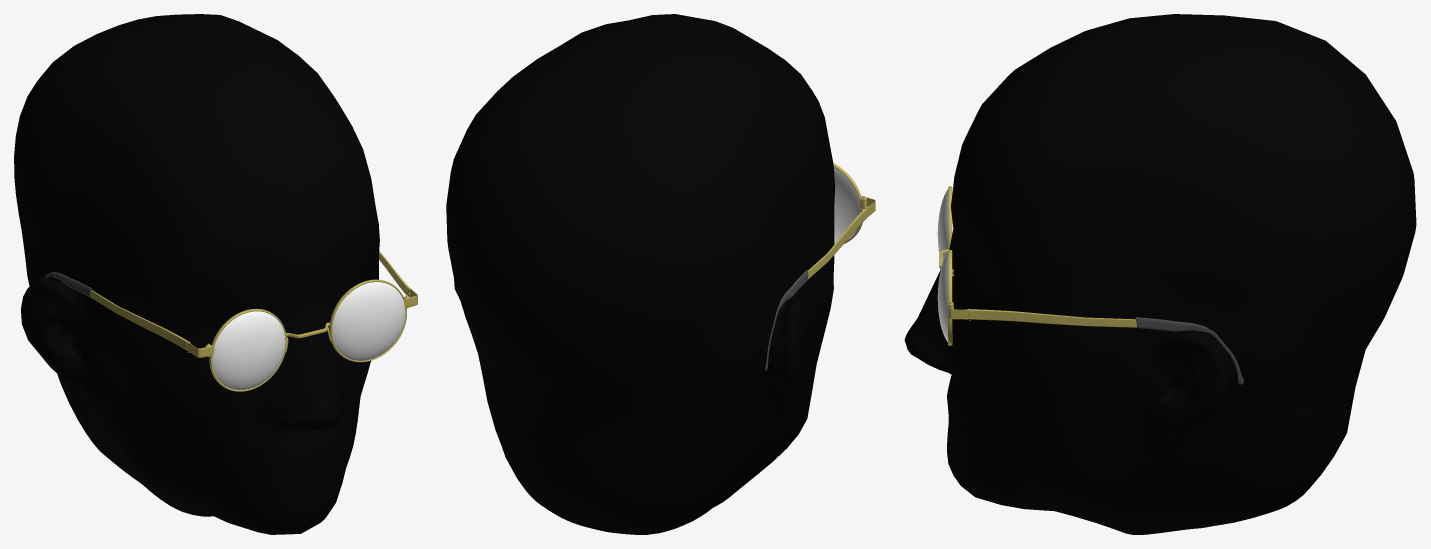
The model's file is HEAD (NO Shoulders).glb.
3 renders of one model, left to right at view 1: azimuth 30°, elevation 25°; view 2: azimuth 150°, elevation 25°; view 3: azimuth 270°, elevation 25°, orthographic. The views are drawn at different scales.
Parts seen in each view (by area): view 1: Head, Glasses; view 2: Head, Glasses; view 3: Head, Glasses.
Part boxes in pixels (x1,y1,x2,y2): Head: (14,14,379,534); Glasses: (44,251,417,391); Head: (446,14,835,534); Glasses: (765,163,875,370); Head: (904,14,1416,534); Glasses: (937,186,1243,384).
Size of the model in its own units: 0.2093 by 0.2827 by 0.2658.
